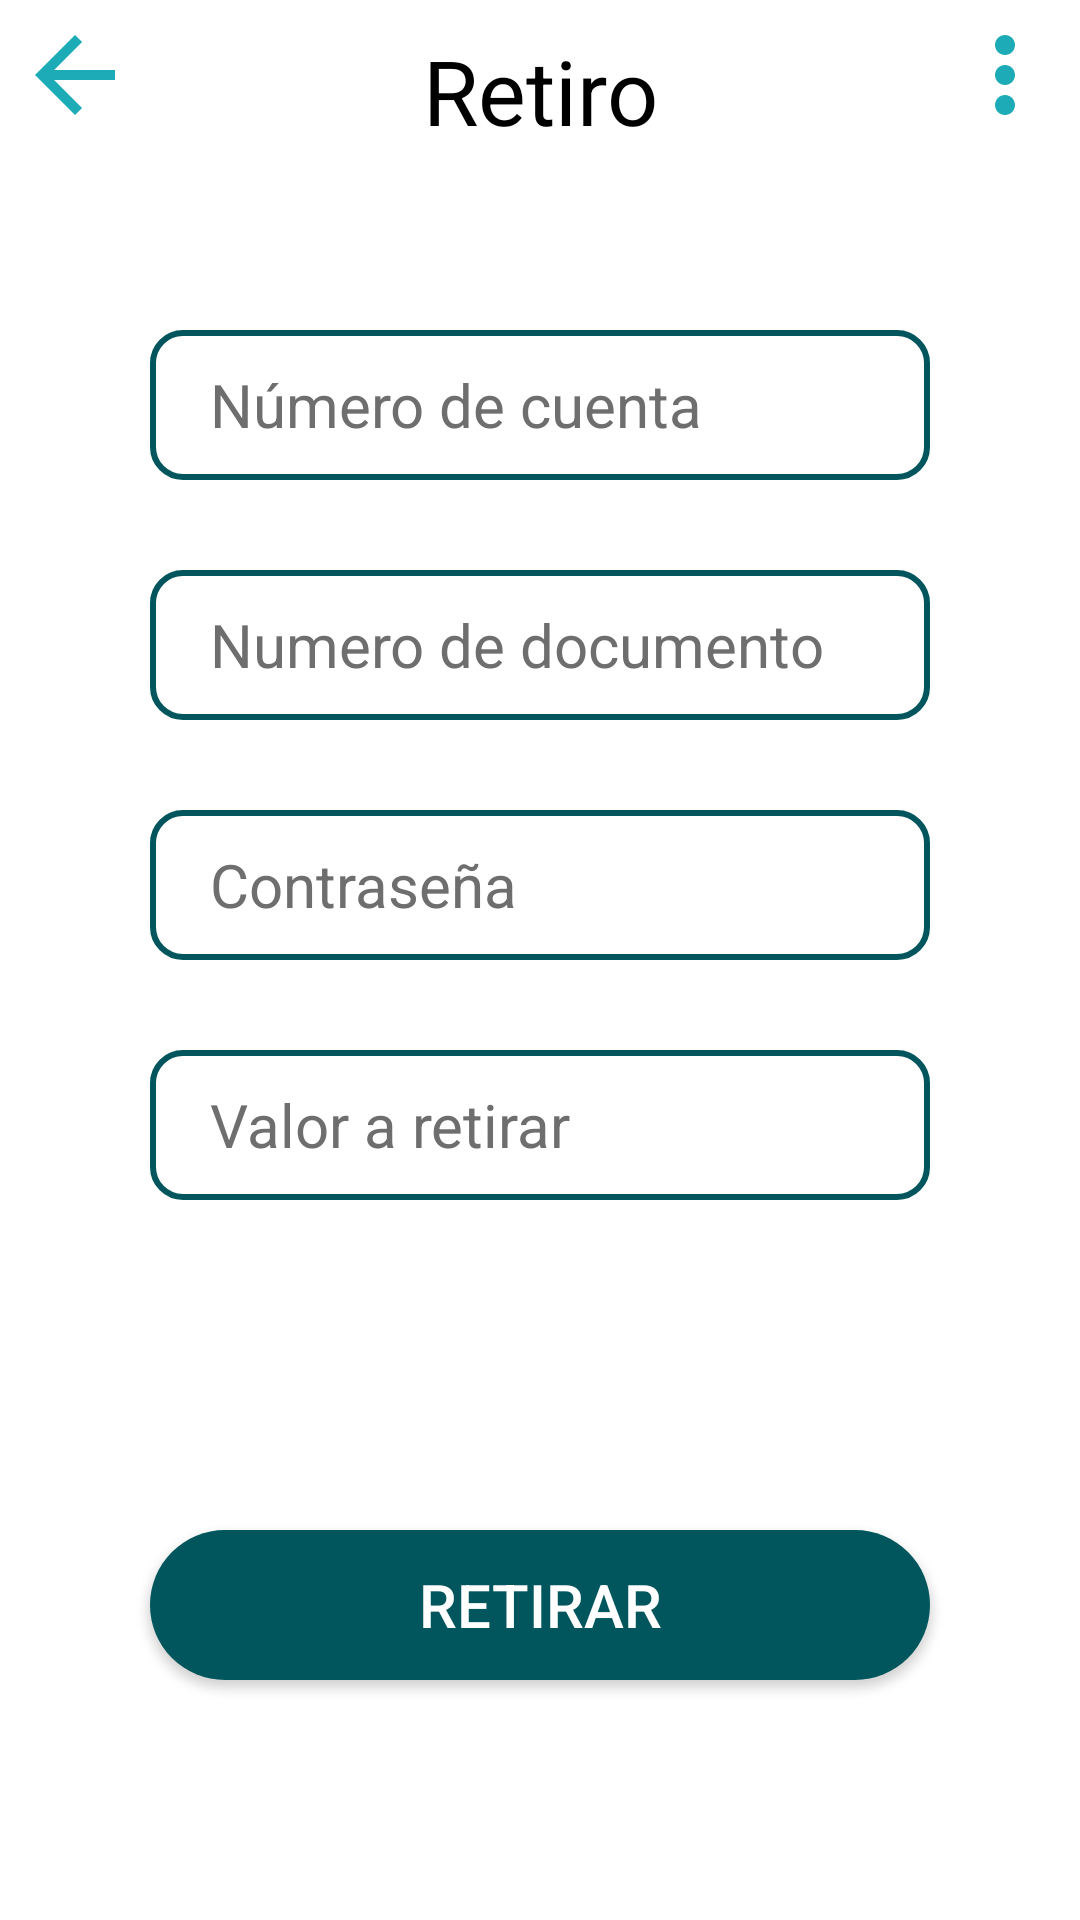

Screen size 1080*1920. Icon name, then its box in pixels as (x1, y1, x2, y2):
arrow: (35, 35, 115, 115)
points: (995, 35, 1015, 115)
